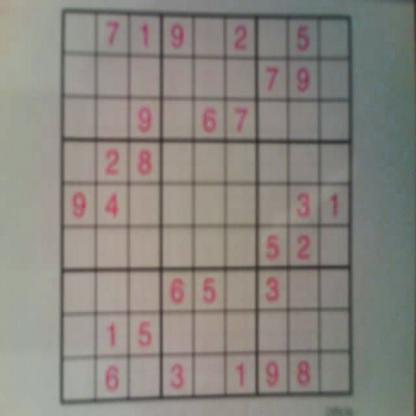sudoku: (55, 4, 361, 409)
